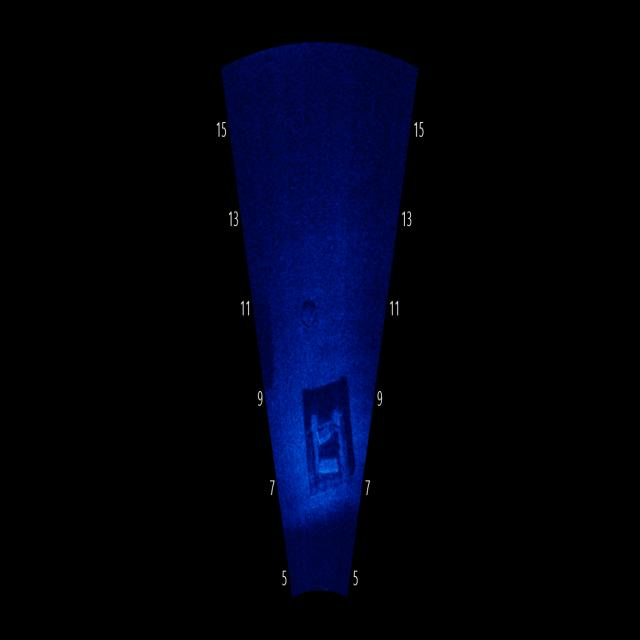square: (287, 354, 360, 500)
